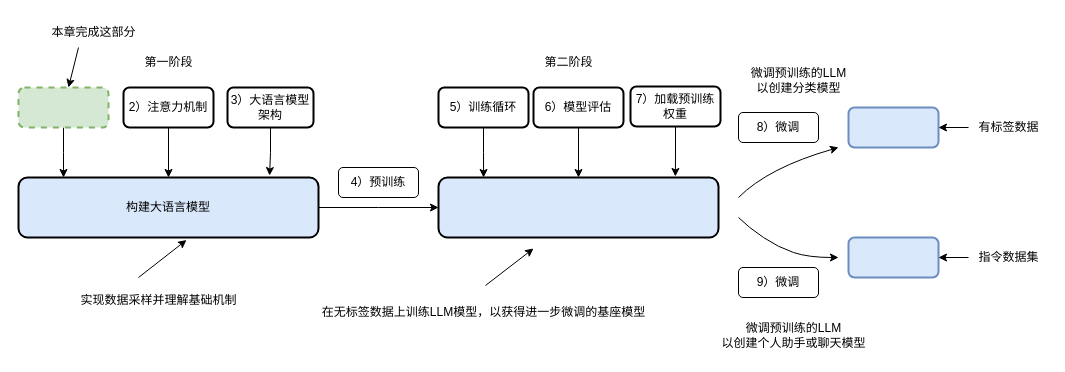
Some shapes in this 1065 by 372 pixel diagram are drawn without their labels. The shapes that lost their labels are listed below. From the top down, each one's centre as x and y in pixels, then its label:
the point at 63,107: 1）数据准备和采样
the point at 893,127: 分类器
the point at 578,207: 基础模型
the point at 893,257: 个人助手
